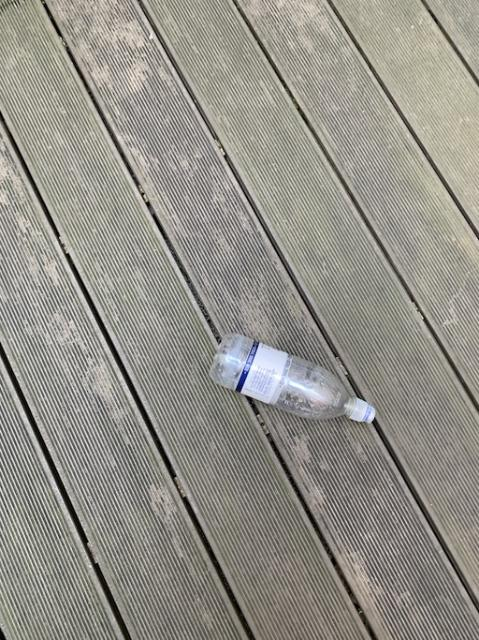plastic: (209, 333, 374, 421)
